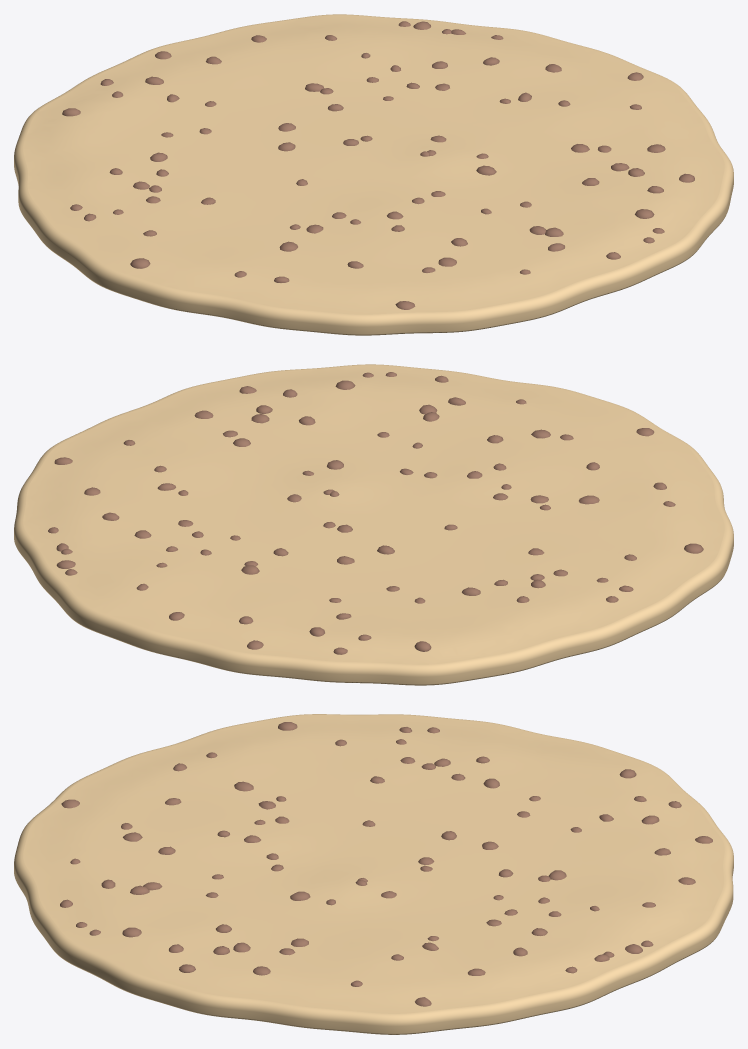
Rendered from GiantCookie.glb.
The picture shows the model from 3 angles, top to bottom: view 1: azimuth 30°, elevation 25°; view 2: azimuth 150°, elevation 25°; view 3: azimuth 270°, elevation 25°; orthographic projection.
Visible parts, largest first — view 1: Cookie, Chips; view 2: Cookie, Chips; view 3: Cookie, Chips.
Boxes of the visible parts, x1=… form: Cookie: x1=14, y1=14, x2=733, y2=335; Chips: x1=62, y1=21, x2=694, y2=309; Cookie: x1=14, y1=364, x2=733, y2=685; Chips: x1=48, y1=372, x2=703, y2=654; Cookie: x1=14, y1=714, x2=733, y2=1034; Chips: x1=60, y1=722, x2=712, y2=1006.
Bounding box in the file's own units: 117 × 4.59 × 116.
